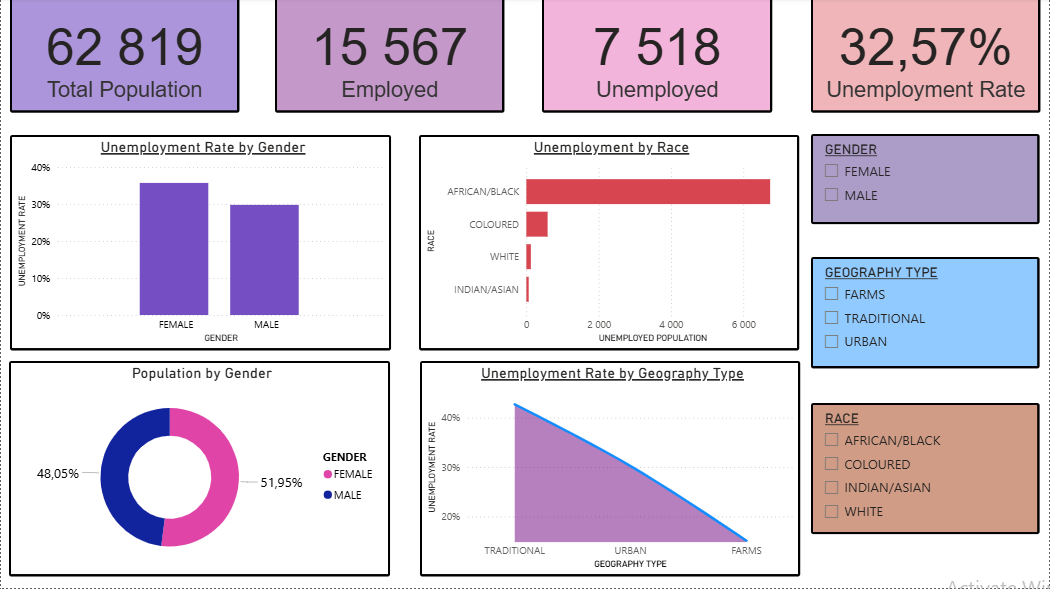

What the dashboard file says about the page in this screenshot:
{"tool":"powerbi","page":{"name":"Page 1","canvas":[1280,720],"ordinal":0},"visuals":[{"type":"card","fields":{"Values":["QLFS202601.Total Population"]},"box":[10.7,0,280,140],"z":0},{"type":"card","fields":{"Values":["QLFS202601.Employed"]},"box":[334.7,0,280,140],"z":1000},{"type":"card","fields":{"Values":["QLFS202601.Unemployed"]},"box":[660,0,281.3,140],"z":2000},{"type":"card","fields":{"Values":["QLFS202601.Unemployment Rate"]},"box":[988,0,280,140],"z":3000},{"type":"clusteredColumnChart","title":"Unemployment Rate by Gender","fields":{"Category":["QLFS202601.GENDER"],"Y":["QLFS202601.Unemployment Rate"]},"box":[10.7,166.7,465.3,262.7],"z":4000},{"type":"donutChart","title":"Population by Gender","fields":{"Category":["QLFS202601.GENDER"],"Y":["QLFS202601.Total Population"]},"box":[9.3,442.7,465.3,262.7],"z":5000},{"type":"barChart","title":"Unemployment by Race","fields":{"Category":["QLFS202601.RACE"],"Y":["QLFS202601.Unemployed"]},"box":[510.7,166.7,464,262.7],"z":6000},{"type":"stackedAreaChart","title":"Unemployment Rate by Geography Type","fields":{"Category":["QLFS202601.GEOGRAPHY TYPE"],"Y":["QLFS202601.Unemployment Rate"]},"box":[511,443,464,263],"z":7000},{"type":"slicer","fields":{"Values":["QLFS202601.GEOGRAPHY TYPE"]},"box":[988.2,316.6,279.4,136.3],"z":9000},{"type":"slicer","fields":{"Values":["QLFS202601.RACE"]},"box":[988.2,494.1,279.4,159.7],"z":10000},{"type":"slicer","fields":{"Values":["QLFS202601.GENDER"]},"box":[988.2,166.5,279.4,110.1],"z":10001}]}

Visuals, with their boxes in screenshot pixels (x1, y1, x2, y2), scaled from the page's 1280x720 canvas onto the 1050x589 screenshot:
card - QLFS202601.Total Population: locate(9, 0, 238, 115)
card - QLFS202601.Employed: locate(275, 0, 504, 115)
card - QLFS202601.Unemployed: locate(541, 0, 772, 115)
card - QLFS202601.Unemployment Rate: locate(810, 0, 1040, 115)
"Unemployment Rate by Gender" clusteredColumnChart: locate(9, 136, 390, 351)
"Population by Gender" donutChart: locate(8, 362, 389, 577)
"Unemployment by Race" barChart: locate(419, 136, 800, 351)
"Unemployment Rate by Geography Type" stackedAreaChart: locate(419, 362, 800, 578)
slicer - QLFS202601.GEOGRAPHY TYPE: locate(811, 259, 1040, 370)
slicer - QLFS202601.RACE: locate(811, 404, 1040, 535)
slicer - QLFS202601.GENDER: locate(811, 136, 1040, 226)
